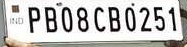character: (27, 6, 41, 33), (43, 6, 57, 33), (107, 6, 121, 32), (60, 6, 73, 32), (93, 6, 106, 32), (138, 6, 151, 32), (76, 7, 89, 32), (152, 6, 165, 31), (124, 6, 136, 31), (167, 6, 177, 32)
